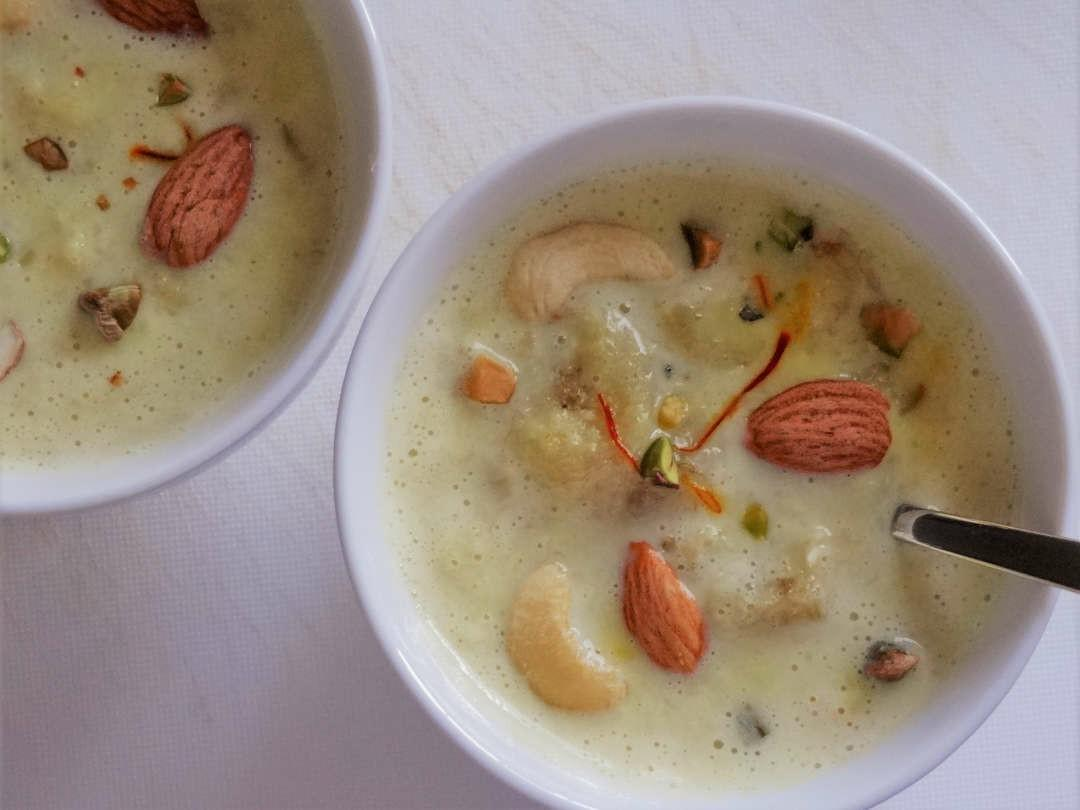Kheer: (385, 174, 1046, 768), (6, 1, 346, 448)
